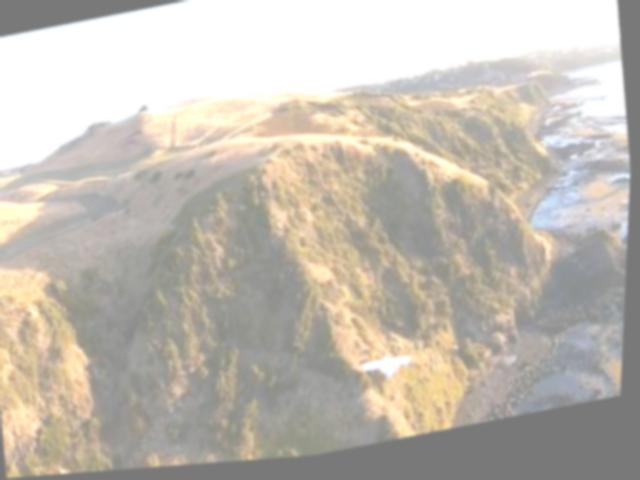uav: (355, 355, 430, 394)
